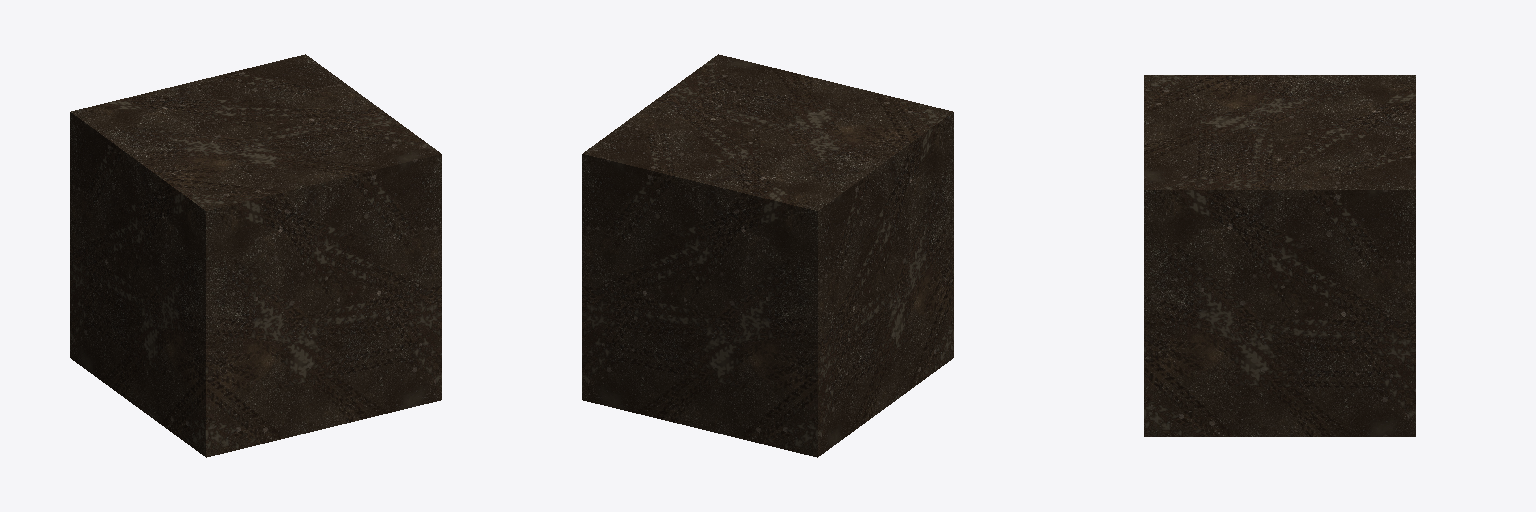
3 views of the same model, side by side, from view 1: azimuth 30°, elevation 25°; view 2: azimuth 150°, elevation 25°; view 3: azimuth 270°, elevation 25° (orthographic).
Visible parts, largest first — view 1: Cube_Cube.001; view 2: Cube_Cube.001; view 3: Cube_Cube.001.
Boxes of the visible parts, box(x1,y1,x2,y2) form: Cube_Cube.001: box(70, 54, 441, 457); Cube_Cube.001: box(582, 54, 953, 457); Cube_Cube.001: box(1144, 75, 1415, 436).
Bounding box in the file's own units: 2 × 2 × 2.
1 materials, 1 textured.